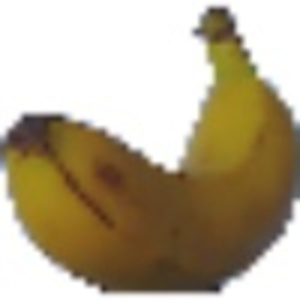banana: (5, 2, 298, 294)
